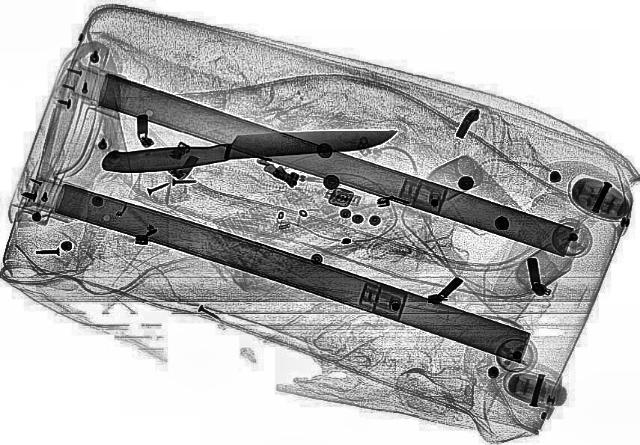Knife: (97, 124, 401, 174)
